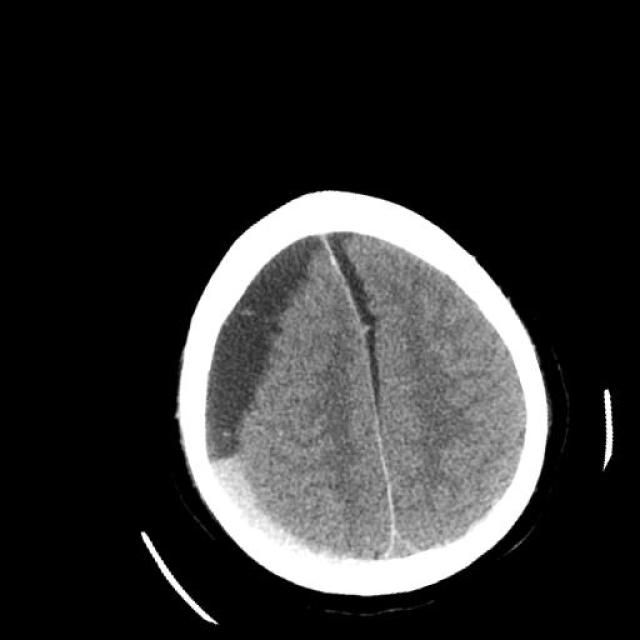Subdural: (212, 433, 368, 592)
